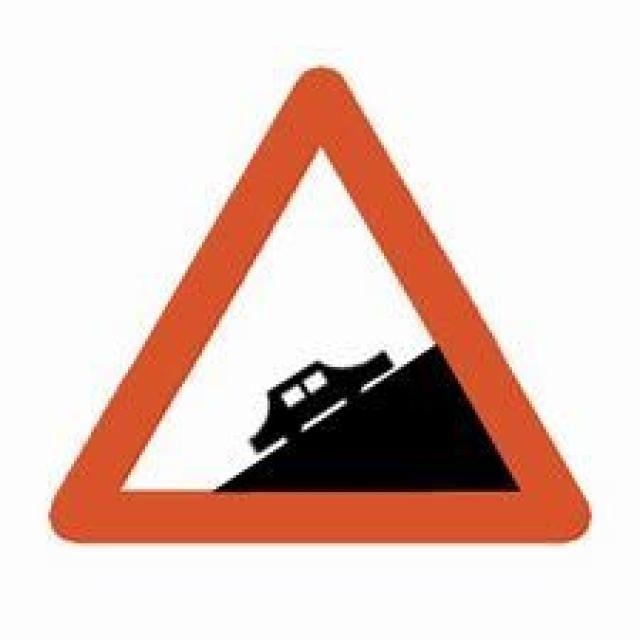steep ascent: (49, 64, 599, 544)
